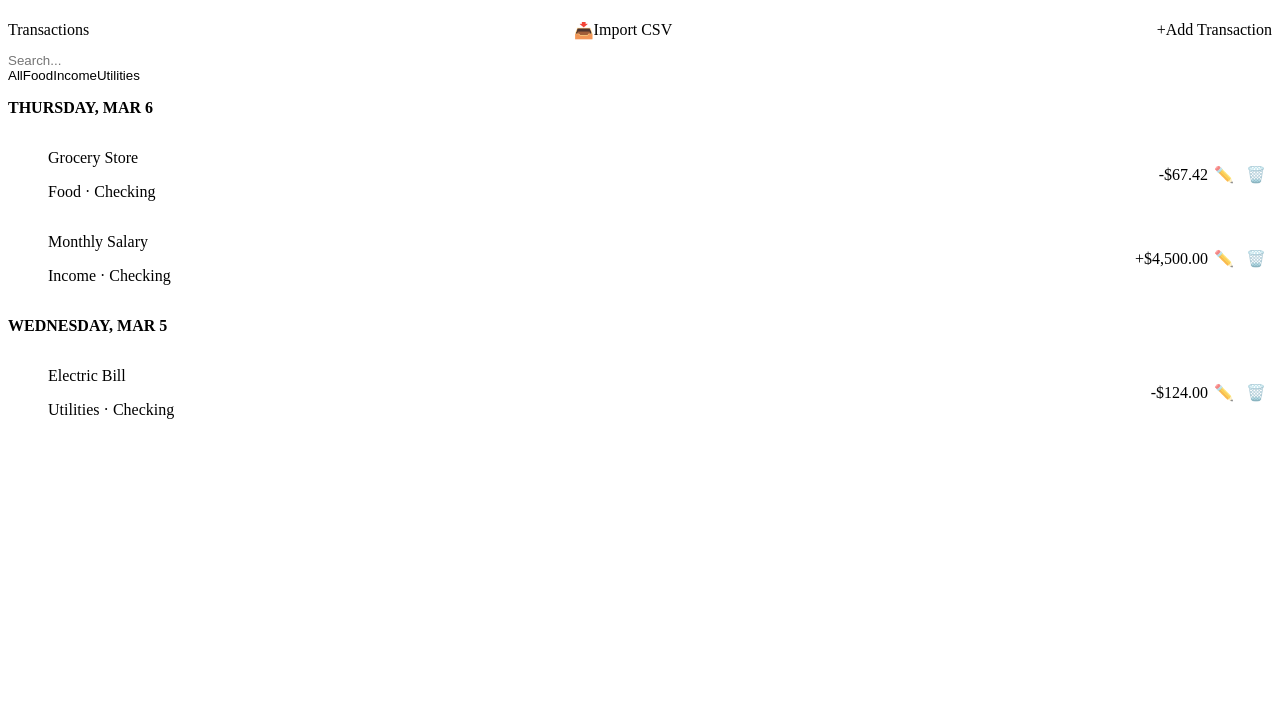
Test: TransactionsPage › clicking delete opens ConfirmDialog
This screenshot has width=1280, height=720.
Click the button named "delete grocery store" at (1256, 174), box x1=1240 y1=158 x2=1272 y2=190
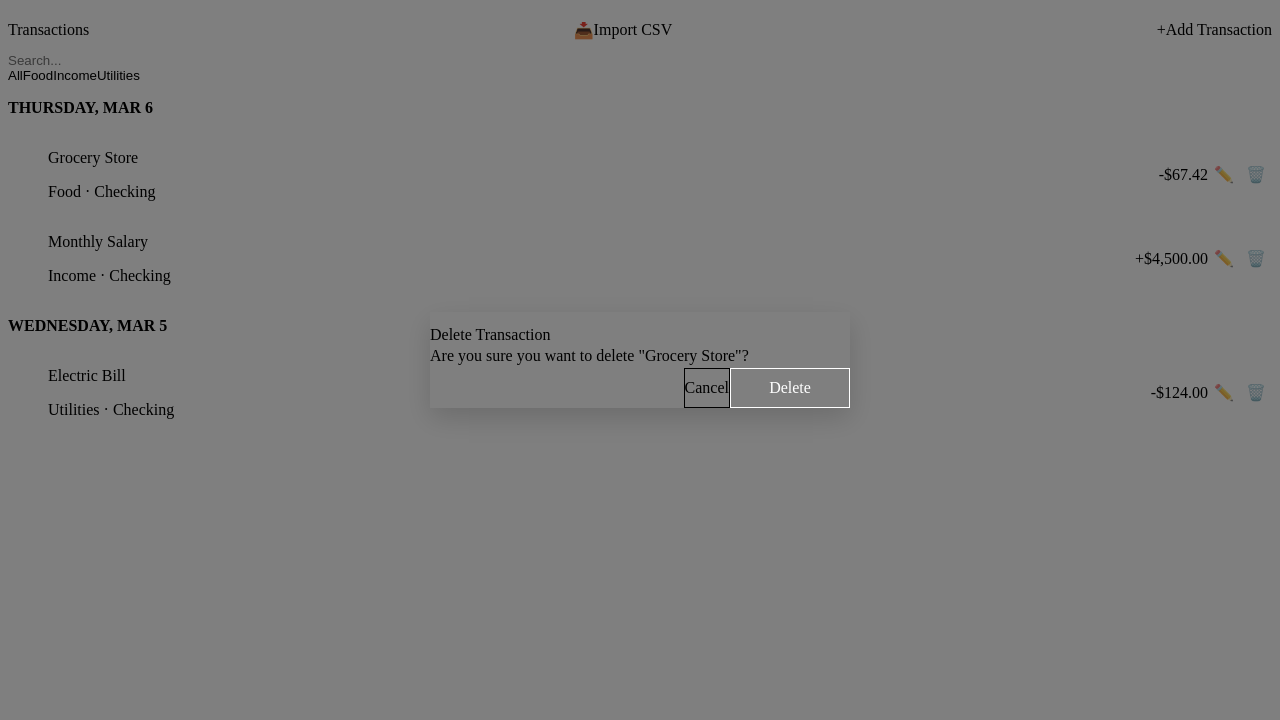
Check: the dialog "Delete Transaction" is shown, box x1=430 y1=312 x2=850 y2=408
Check: the text "Are you sure you want to delete \"Grocery Store\"?" is shown, box x1=430 y1=347 x2=749 y2=364
